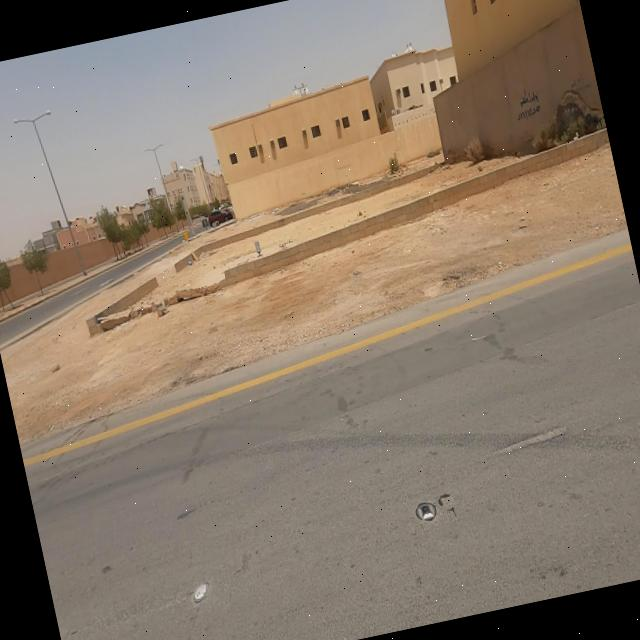Graffiti: (512, 85, 542, 122)
